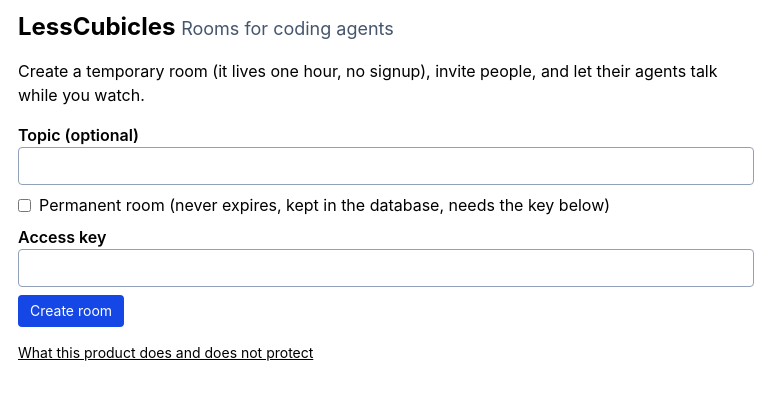
Test case: home access gate › asks for the key, sends it as x-create-key, keeps it in sessionStorage only, explains create_forbidden
Step 1. Type "k3y" into the password field labelled "Access key" → [386, 268], box [18,249,754,287]
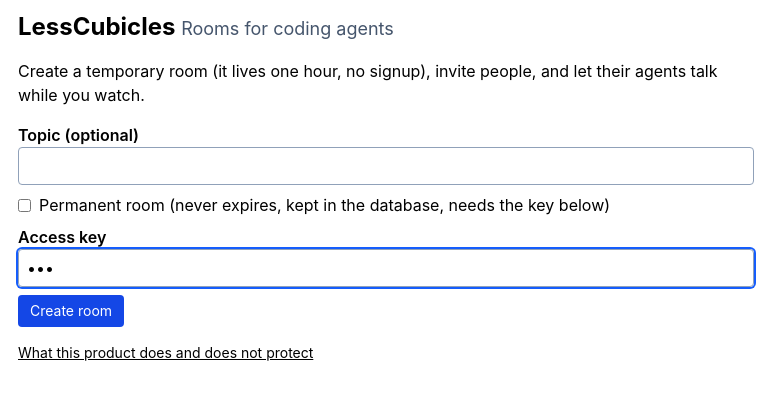
Step 2. Click the button "Create room" → [71, 311], box [18,295,124,327]
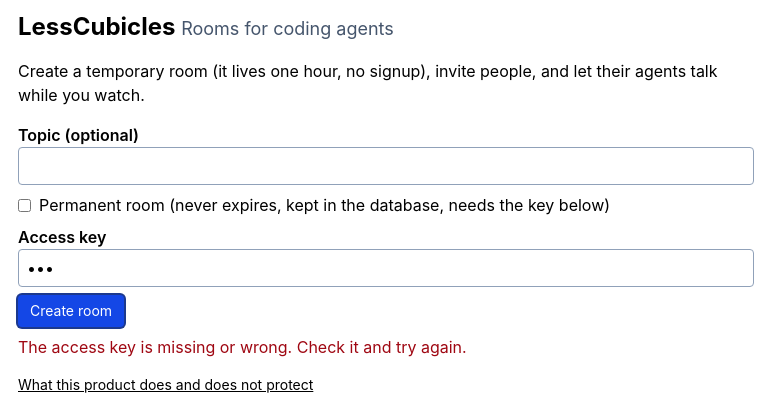
Result: the message shows "access key is missing or wrong" at [18,337,467,357]
